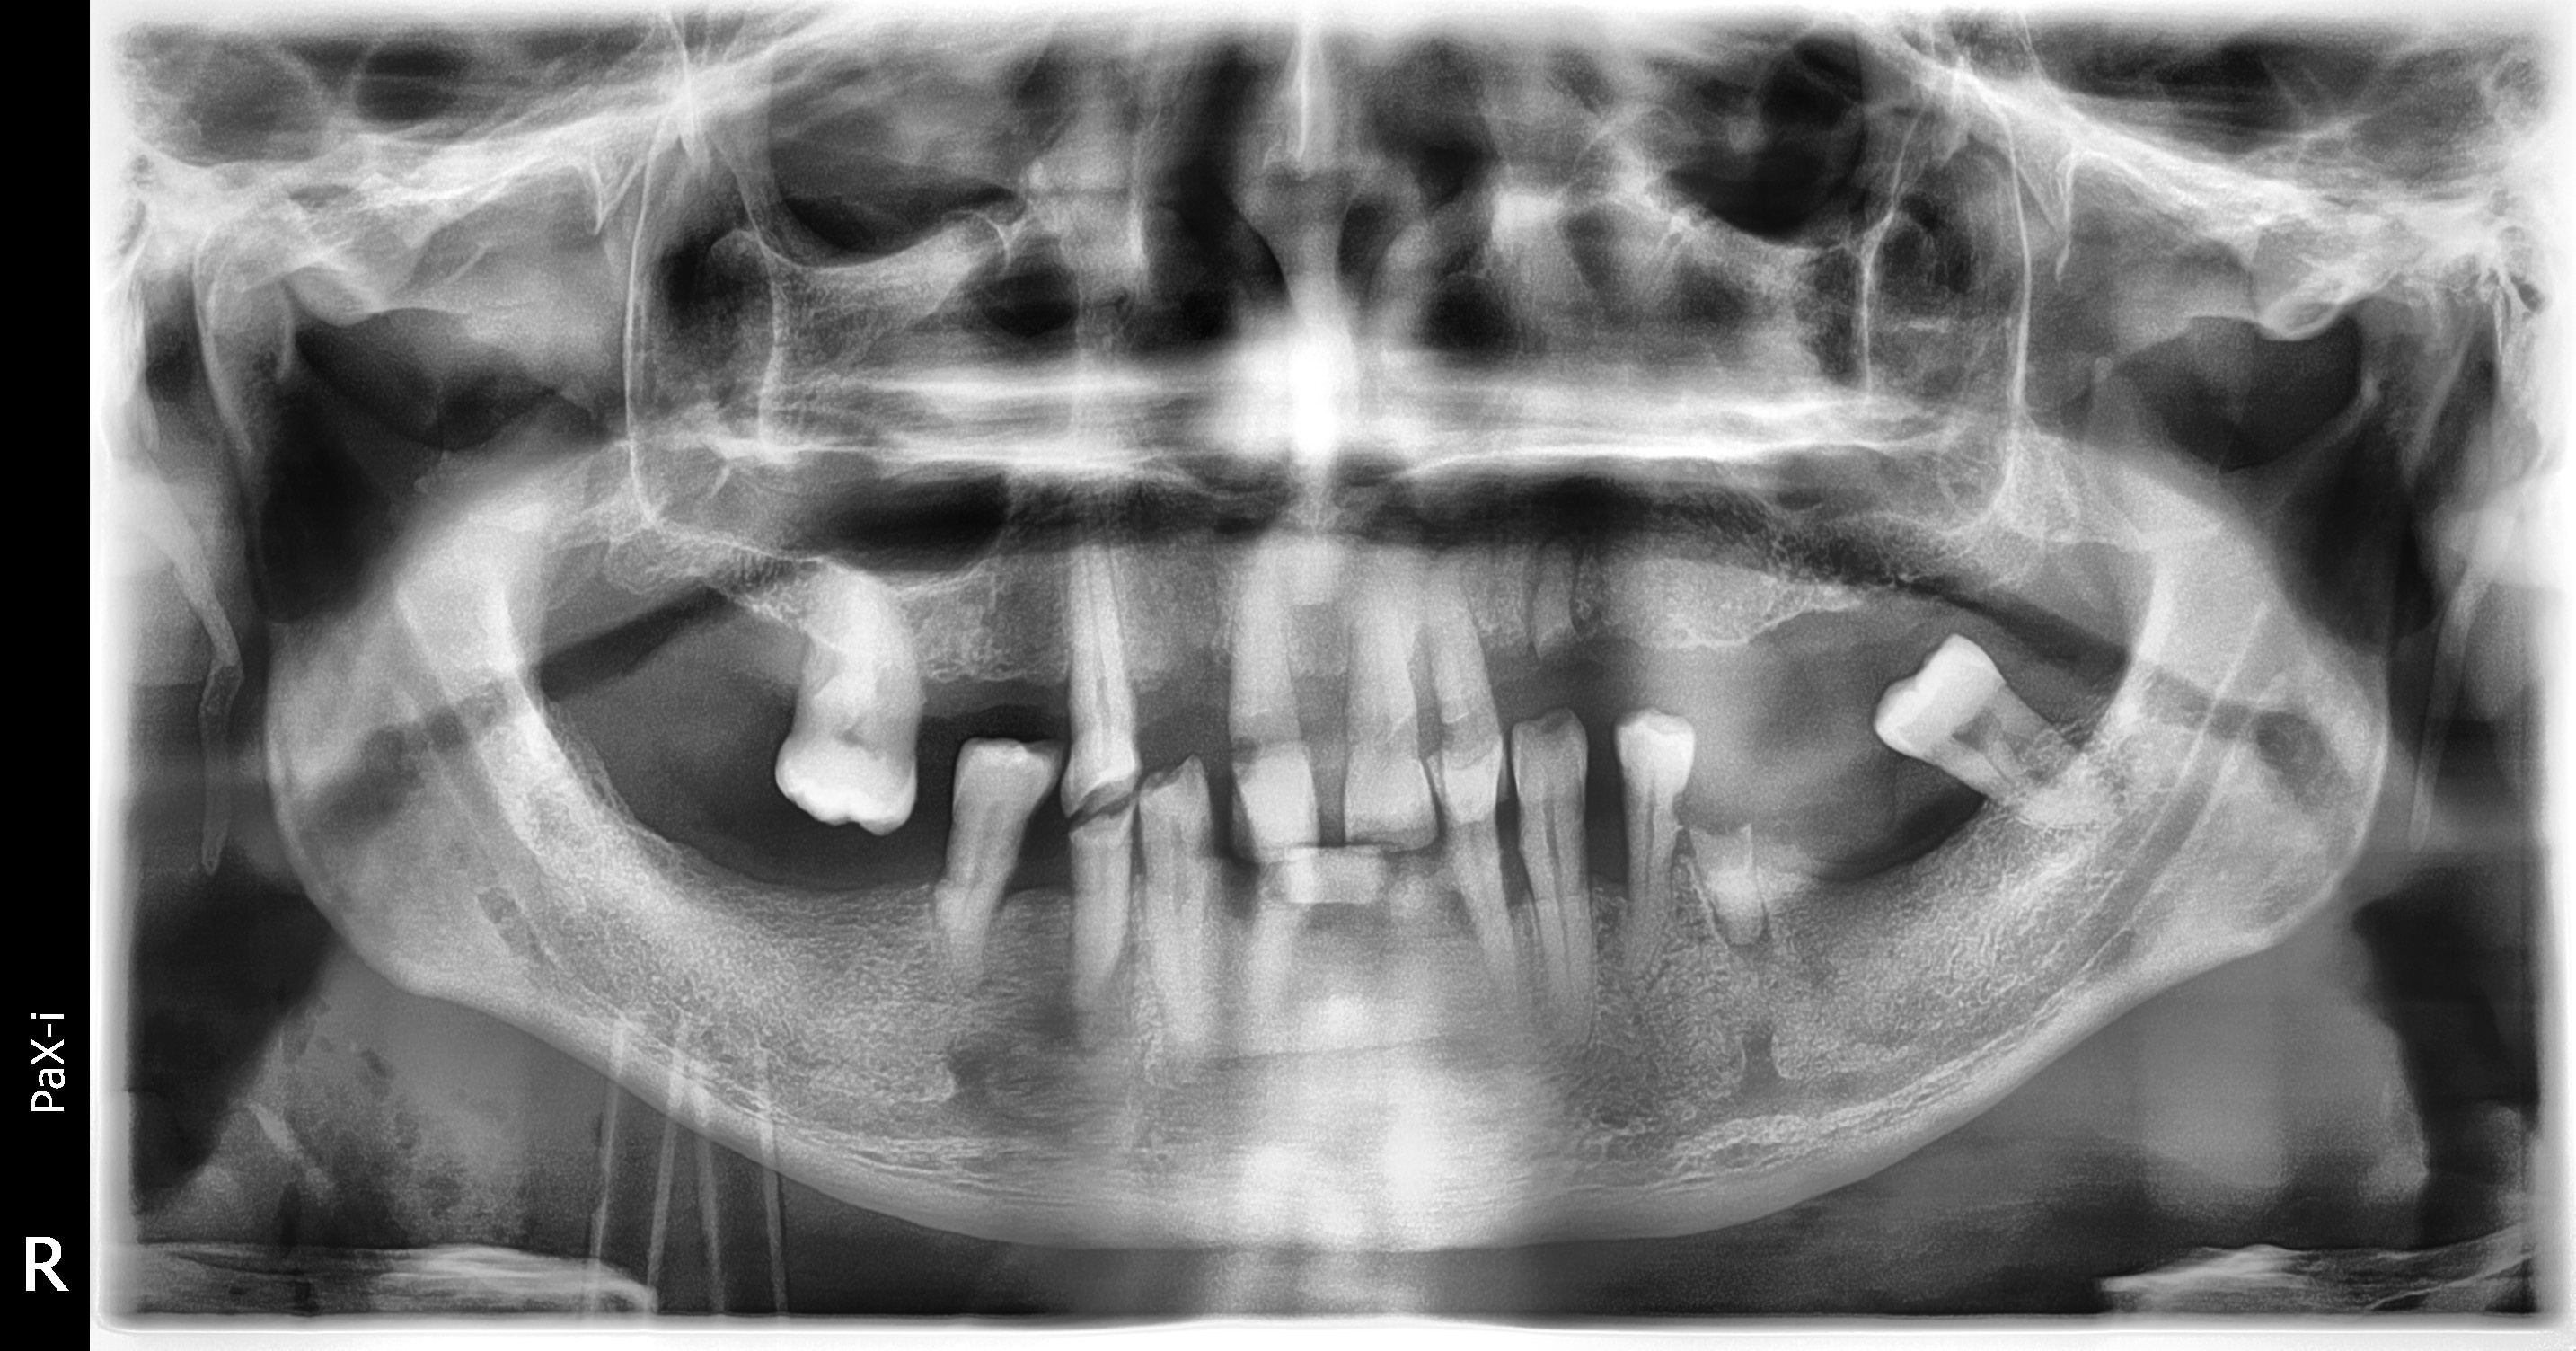API: (1707, 913, 1779, 1009)
BON: (864, 647, 975, 765), (1276, 612, 1368, 738), (1566, 808, 1647, 939), (1160, 615, 1242, 746), (1390, 601, 1455, 726), (1099, 653, 1177, 755), (976, 825, 1048, 928), (1484, 828, 1545, 932), (1206, 852, 1262, 951), (1038, 642, 1082, 767)
CAR: (1068, 794, 1133, 854), (1218, 719, 1269, 794), (1165, 821, 1233, 876), (1644, 767, 1693, 838)
ROT: (1501, 508, 1629, 666), (1682, 801, 1780, 956)
